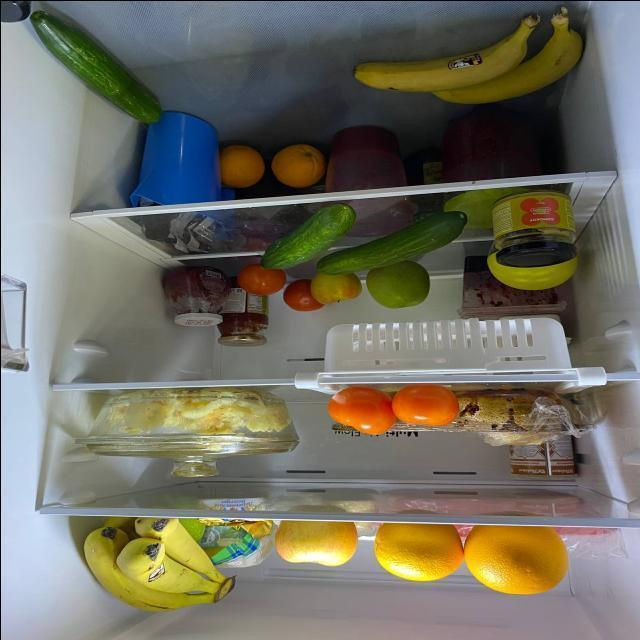apple: (270, 510, 362, 569), (358, 263, 431, 308), (156, 506, 206, 545), (308, 272, 358, 308)
banana: (346, 8, 590, 107), (81, 513, 236, 615)
cucumber: (22, 8, 172, 127), (310, 216, 474, 279), (256, 204, 362, 273)
orange: (466, 523, 570, 594), (366, 511, 466, 583), (273, 142, 327, 186), (216, 141, 264, 185)
tomato: (328, 385, 393, 432), (387, 384, 457, 425), (238, 262, 286, 296), (282, 279, 324, 311)
